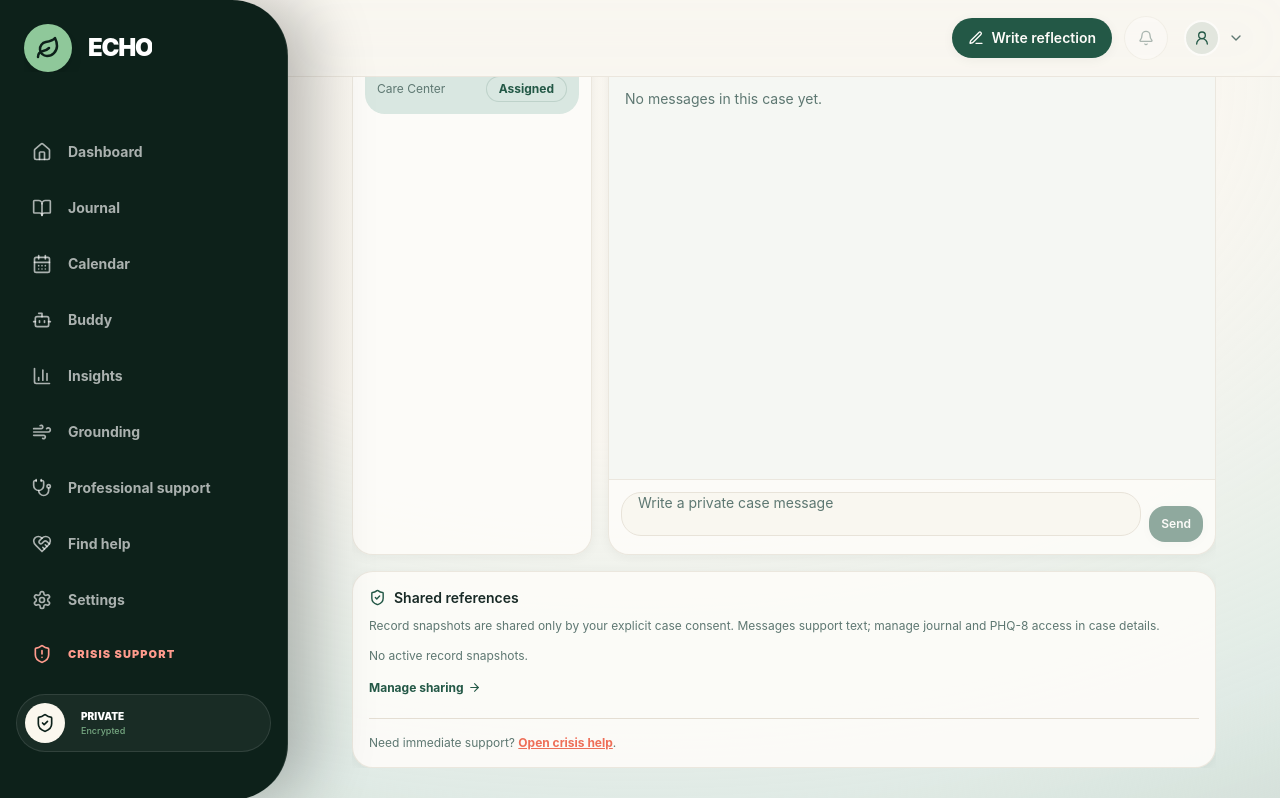
Test case: user professional support pages › coalesces duplicate form submits while retaining the retry identifier
The width and height of the screenshot is (1280, 798).
(page scrolled)
In the text box named "Message your practitioner": {"x": 881, "y": 514} x1=621 y1=492 x2=1141 y2=536, type "Fictional safe retry"
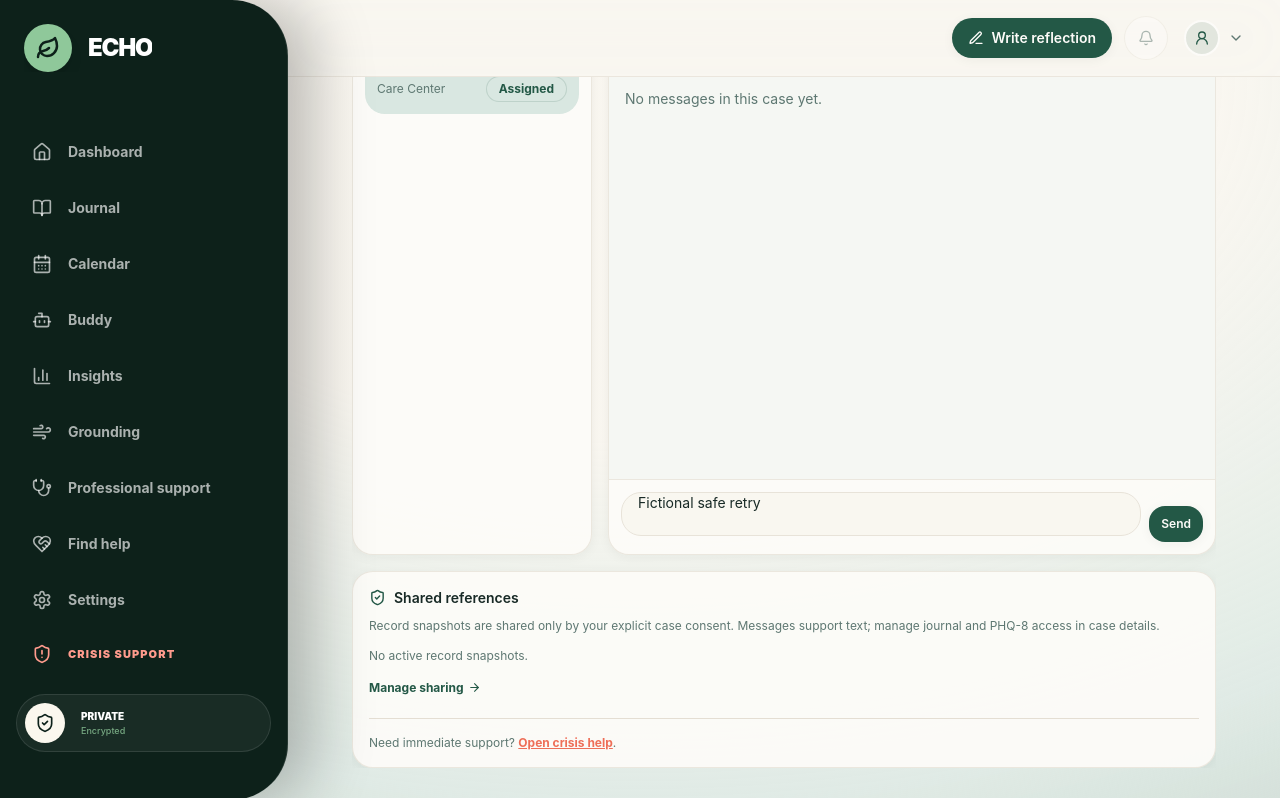
Submit the form named "Message your practitioner", box x1=609 y1=478 x2=1215 y2=554
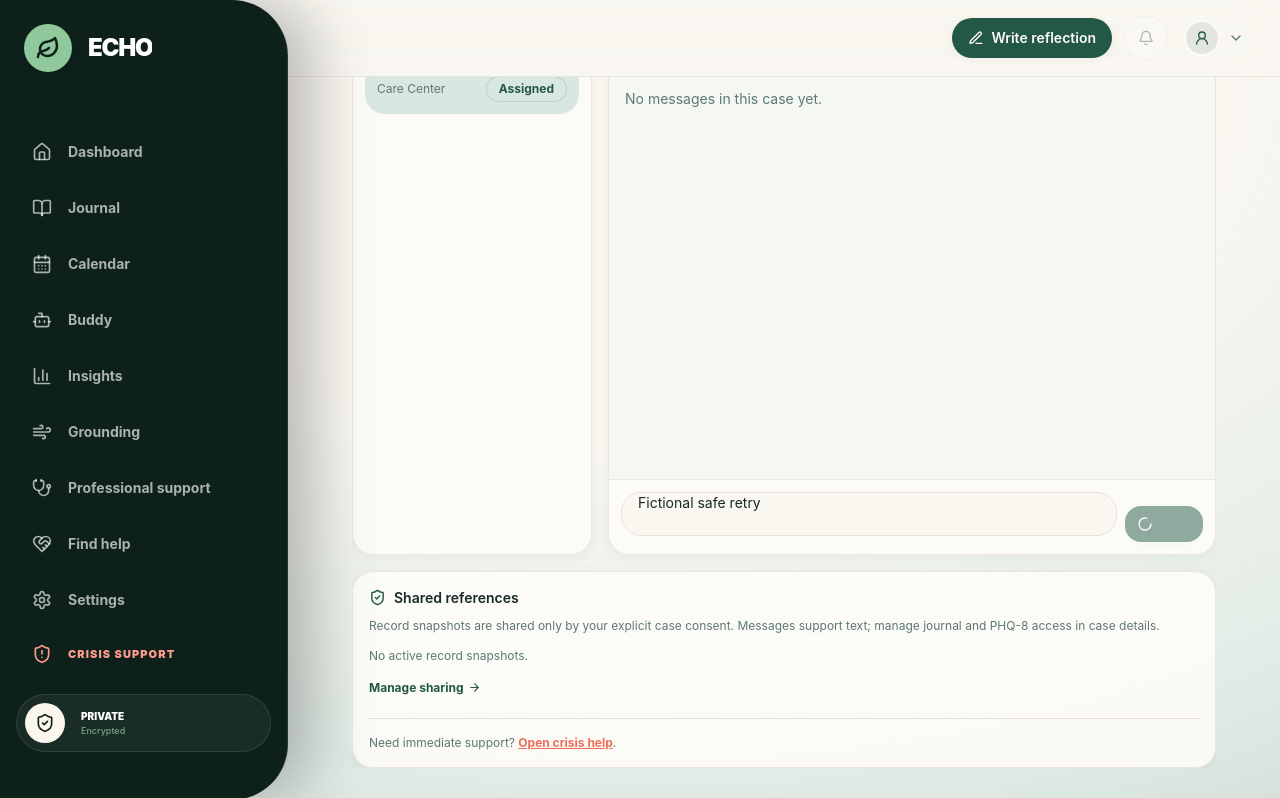
Submit the form named "Message your practitioner", box x1=609 y1=478 x2=1215 y2=554
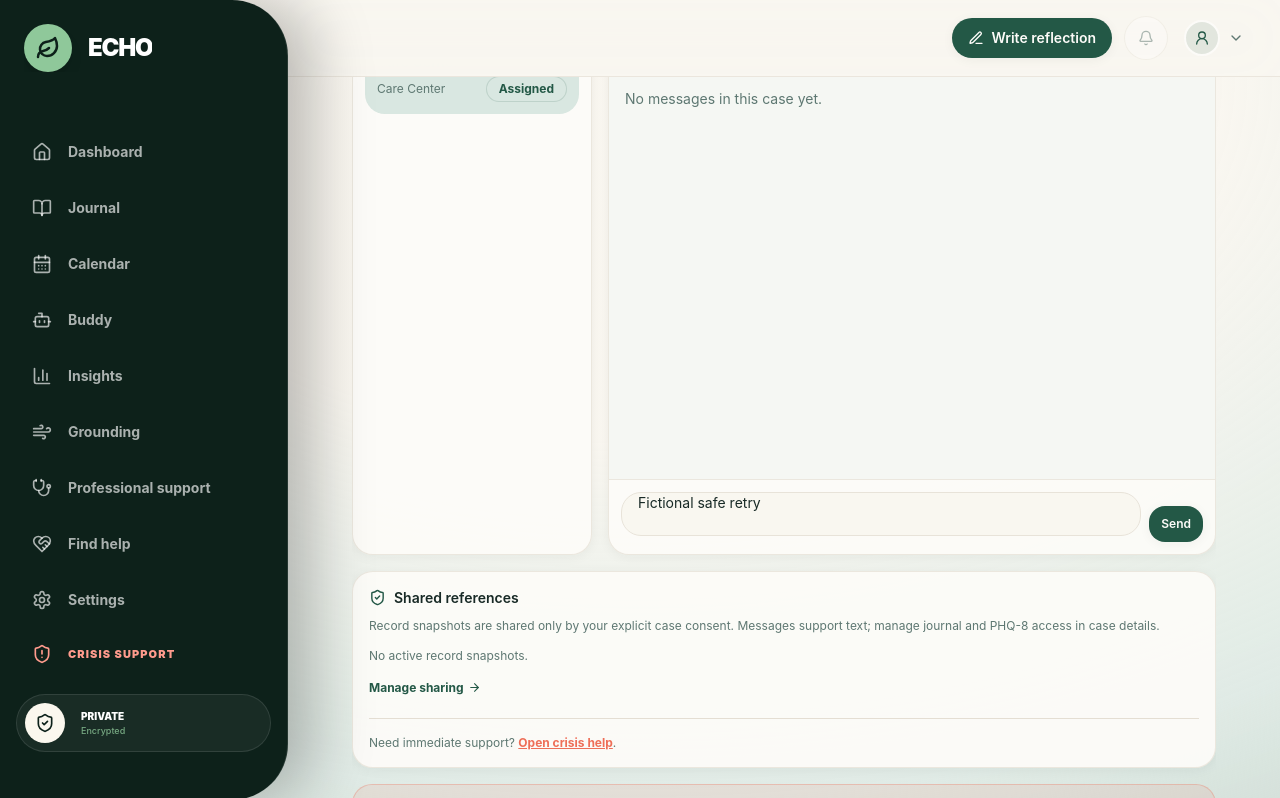
Submit the form named "Message your practitioner", box x1=609 y1=478 x2=1215 y2=554
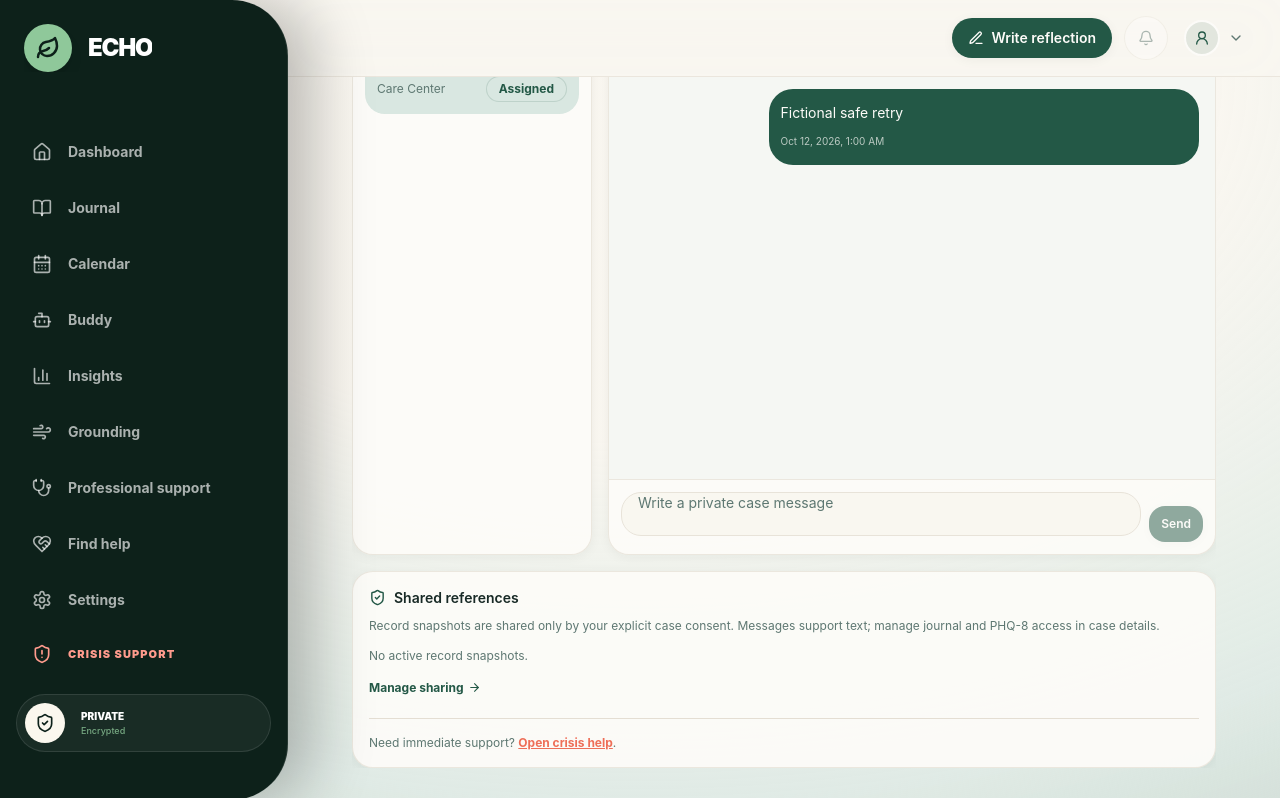
Check: the text "Fictional safe retry" is shown, box x1=780 y1=104 x2=903 y2=120
